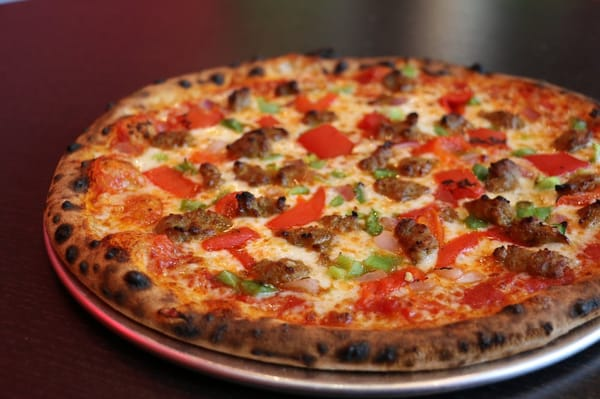sandwich: (50, 54, 600, 371)
